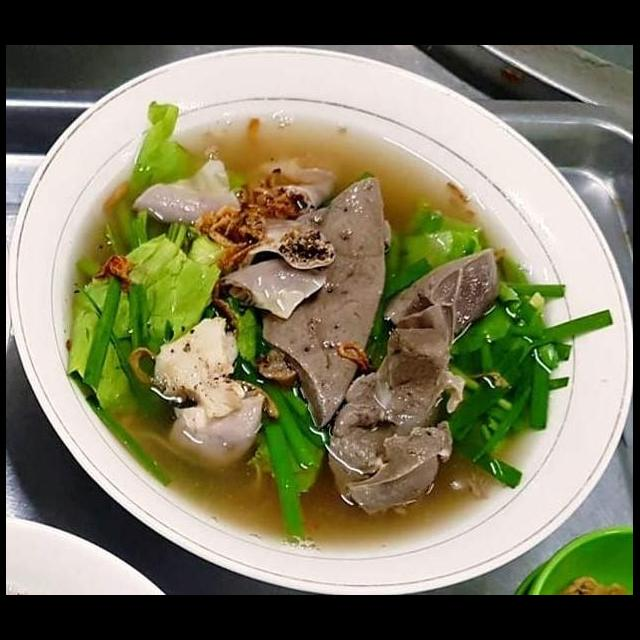gan: (248, 162, 397, 434)
